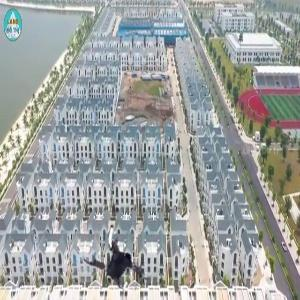drone: (81, 216, 163, 298)
